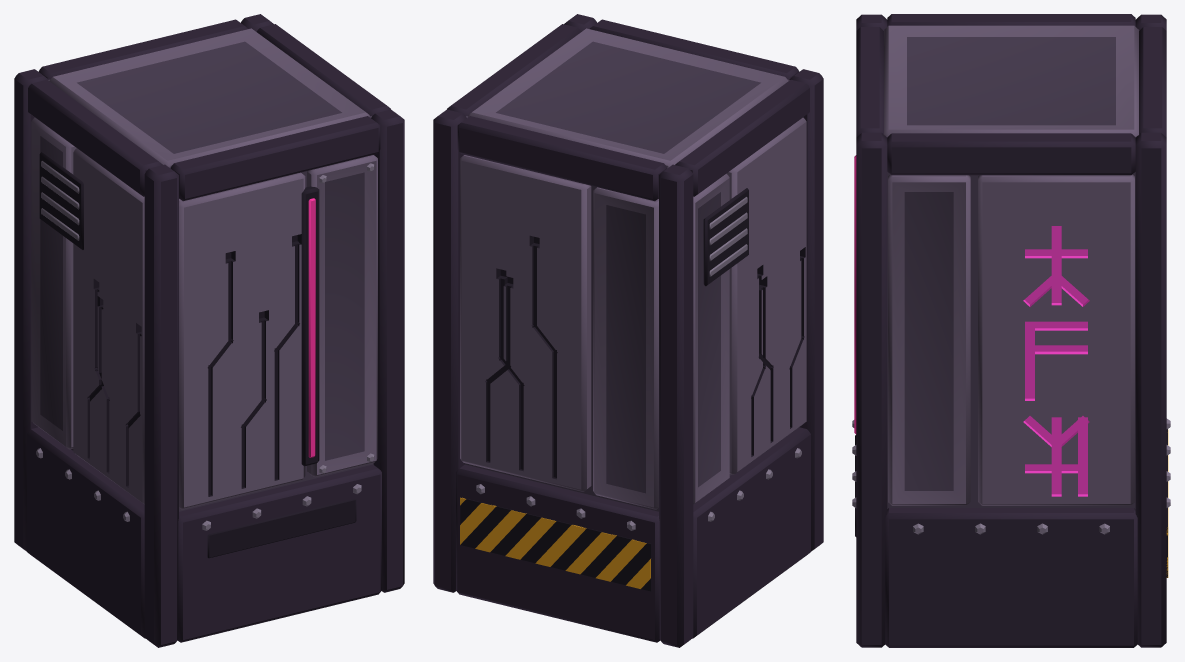
The model's file is wall__lower.glb.
The picture shows the model from 3 angles, left to right: view 1: azimuth 30°, elevation 25°; view 2: azimuth 150°, elevation 25°; view 3: azimuth 270°, elevation 25°; orthographic projection. The views are drawn at different scales.
Visible parts, largest first — view 1: wall; view 2: wall; view 3: wall.
Boxes of the visible parts, bbox=[...] form: wall: bbox=[14, 14, 404, 647]; wall: bbox=[433, 14, 823, 647]; wall: bbox=[852, 14, 1170, 647].
Bounding box in the file's own units: 1.02 × 1.8 × 1.02.
